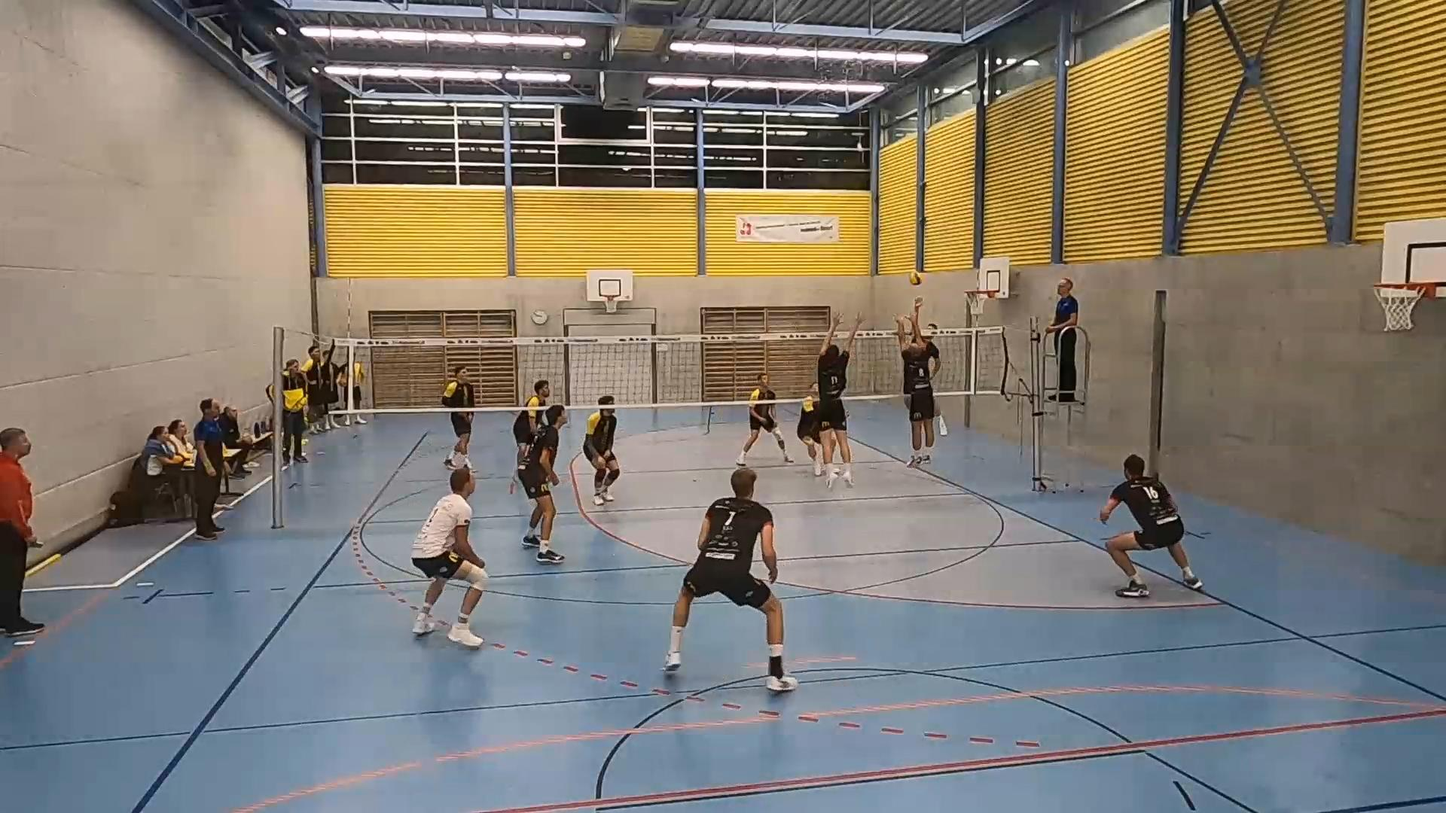attacco: (894, 297, 952, 447)
muro: (811, 319, 861, 473), (895, 312, 941, 470)
